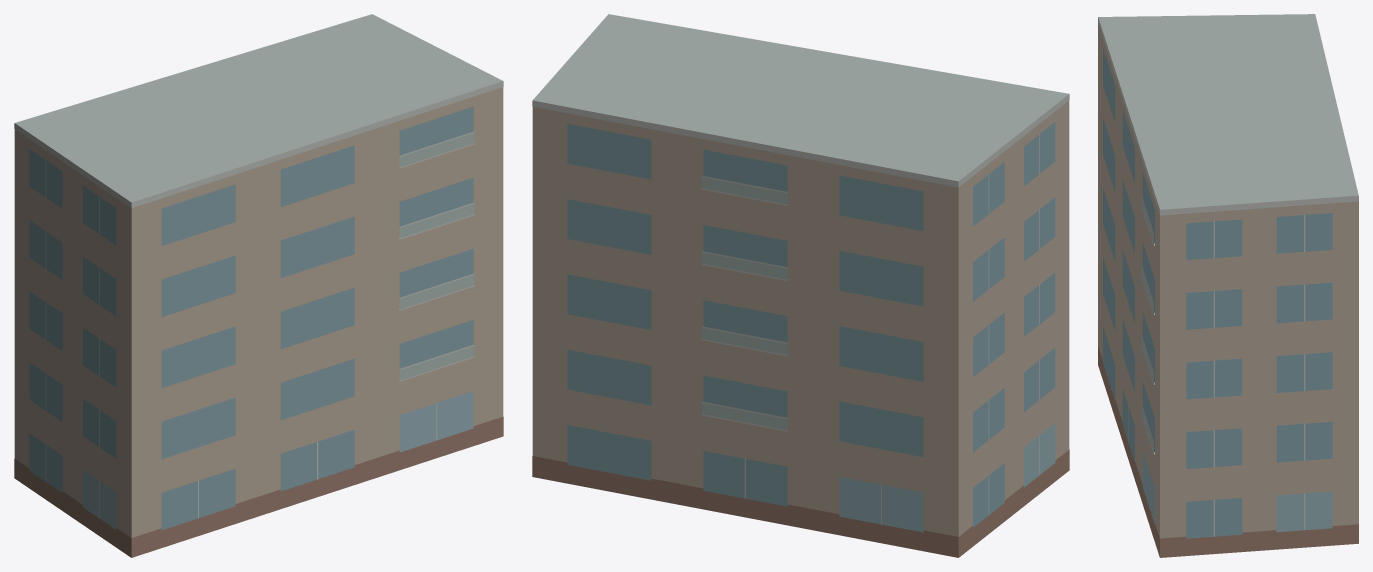
Rendered from survey-upis-32961853.glb.
The picture shows the model from 3 angles, left to right: view 1: azimuth 30°, elevation 25°; view 2: azimuth 150°, elevation 25°; view 3: azimuth 270°, elevation 25°; orthographic projection. The views are drawn at different scales.
Parts seen in each view (by area): view 1: survey-upis-32961853.tmp; view 2: survey-upis-32961853.tmp; view 3: survey-upis-32961853.tmp.
Part boxes in pixels (<box>): survey-upis-32961853.tmp: <box>14,14,503,557</box>; survey-upis-32961853.tmp: <box>532,14,1069,557</box>; survey-upis-32961853.tmp: <box>1098,14,1358,557</box>.
Size of the model in its own units: 17.87 by 14.8 by 10.06.
